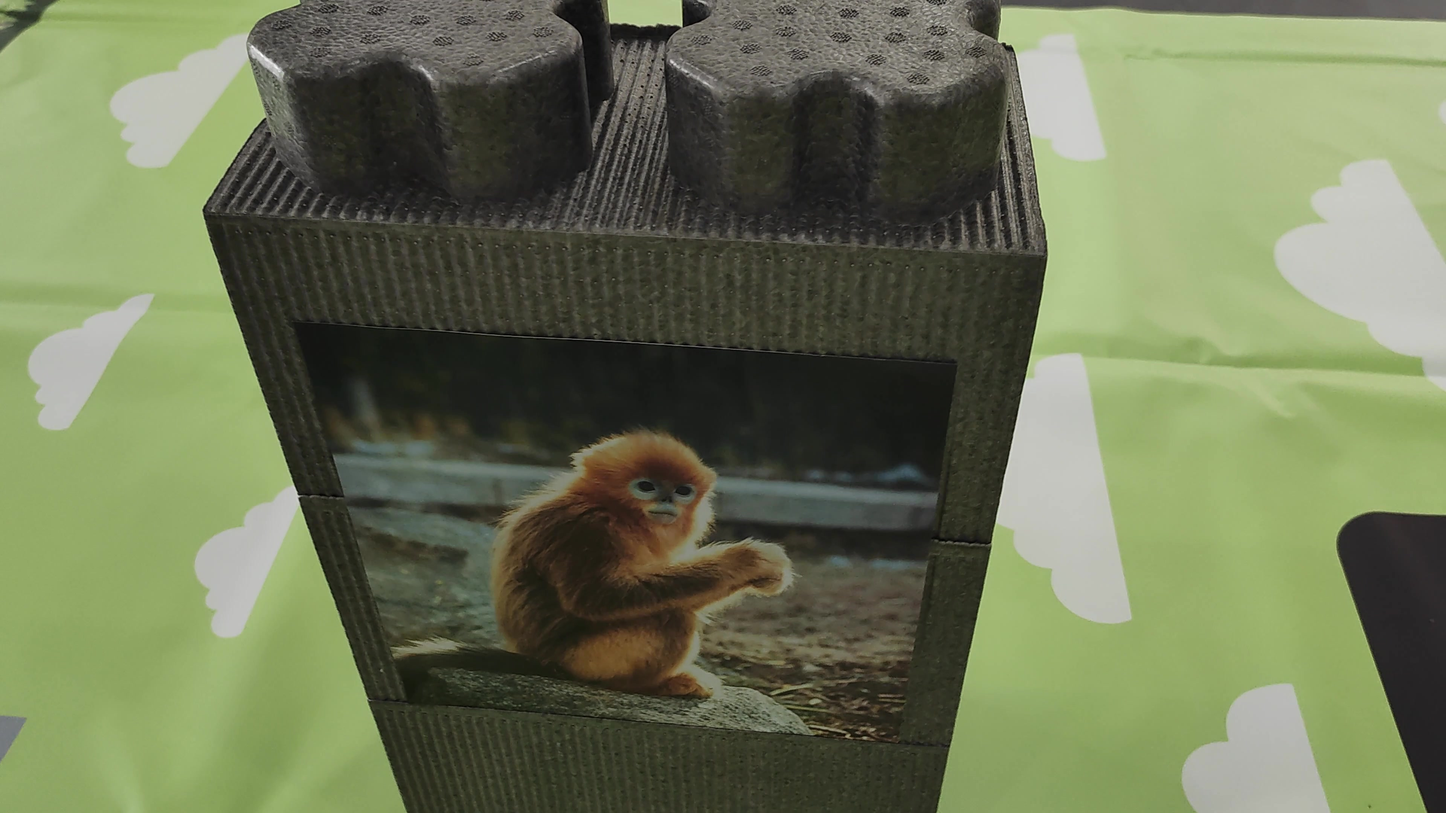monkey: (386, 408, 811, 714)
